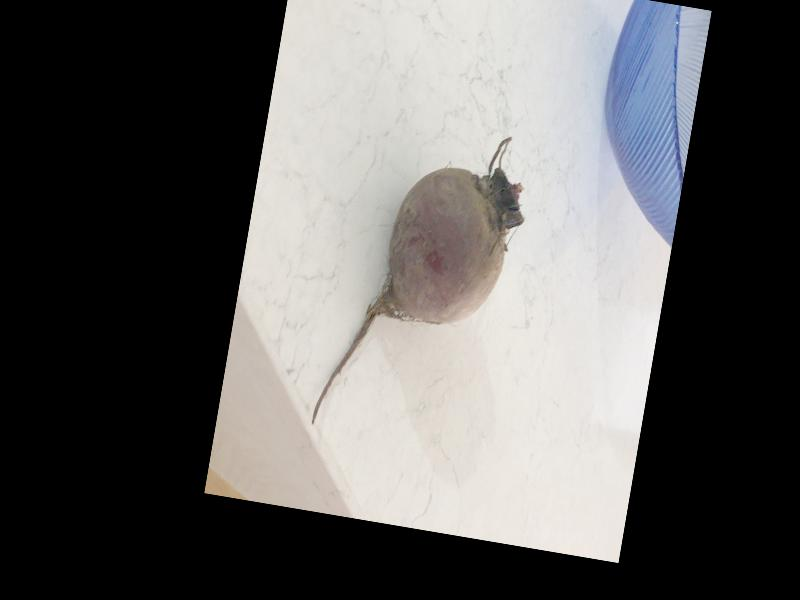Beet: (310, 113, 535, 451)
